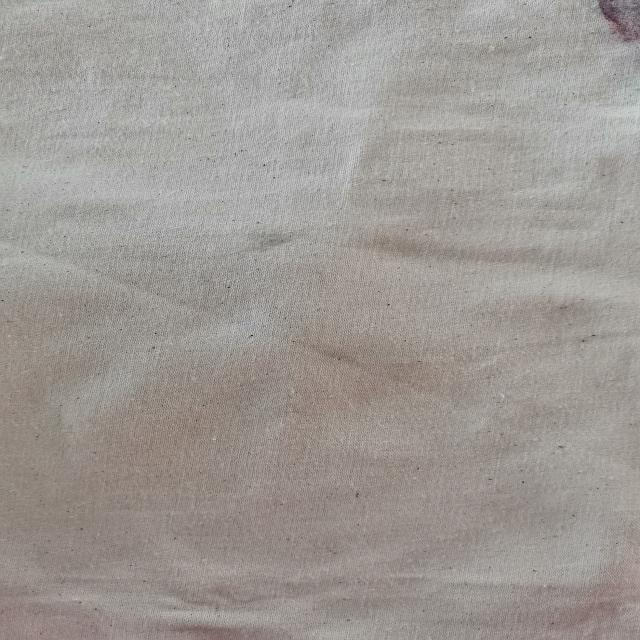taaaches: (564, 1, 640, 49), (236, 222, 304, 266)
